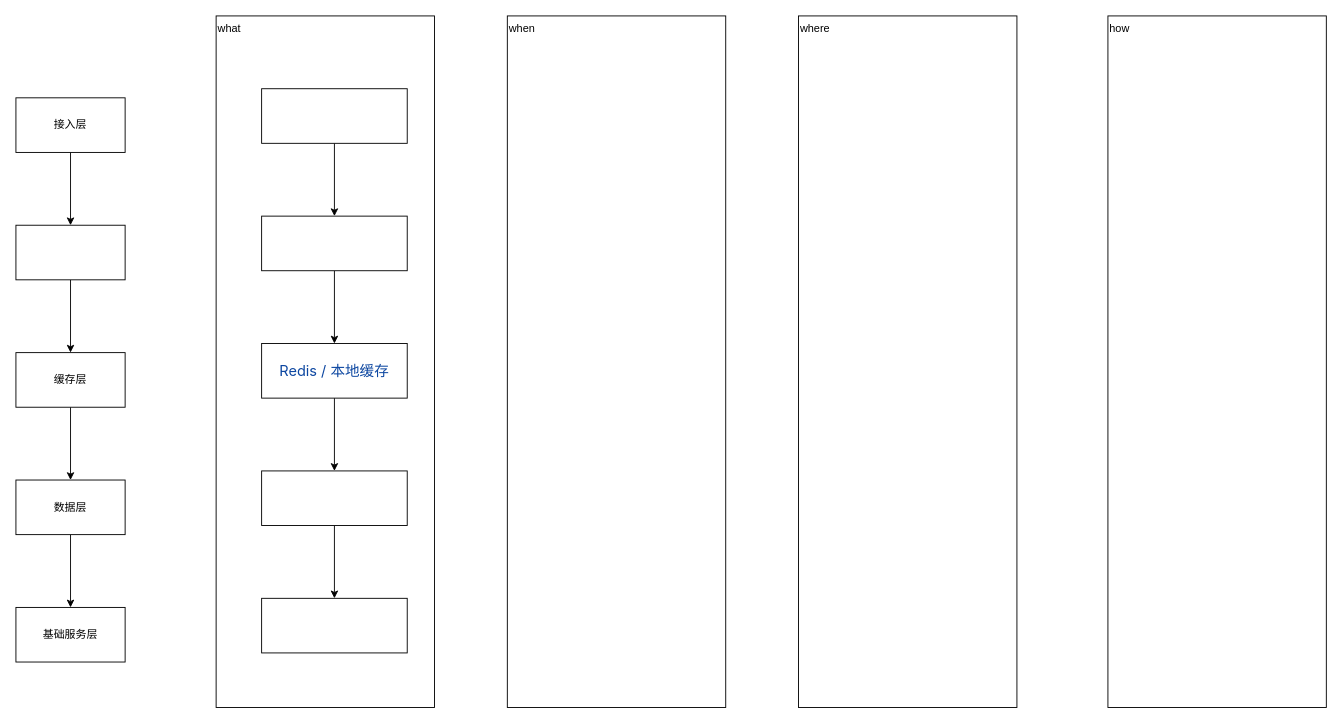
The diagram is 1342 pixels wide and 723 high, and some of its shapes have lost their labels. Here are the shapes that lost their labels. From the top down, the centre of each, then its label:
At (x=334, y=115): "Nginx / 网关 / LB".
At (x=70, y=252): "应用层".
At (x=334, y=243): "业务服务（线程池）".
At (x=334, y=498): "MySQL / 磁盘 IO".
At (x=334, y=625): "带宽 / CPU / 内存".
